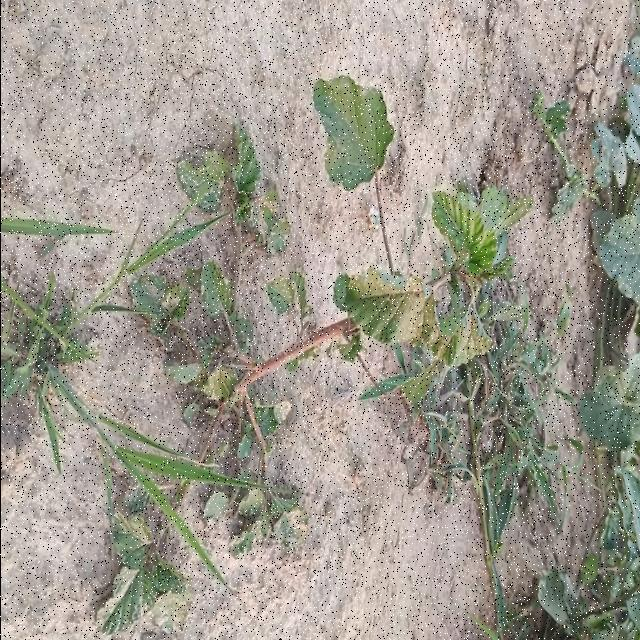weed: (127, 127, 531, 557), (95, 479, 184, 635), (313, 75, 393, 202)
